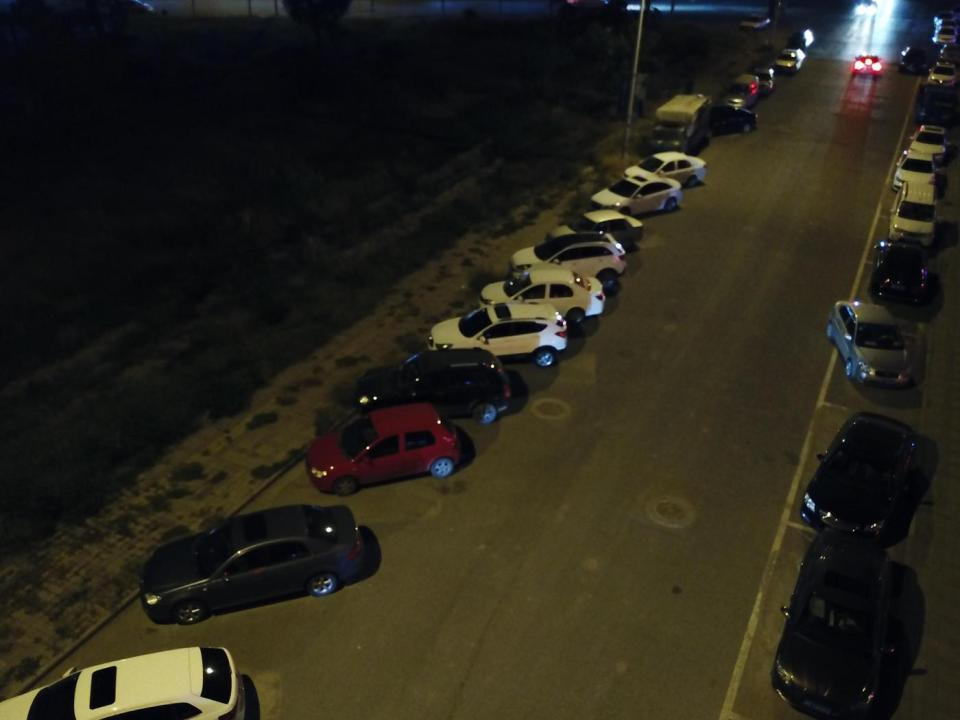car: (138, 501, 370, 624), (768, 533, 893, 720), (5, 644, 247, 720), (803, 404, 918, 544), (304, 400, 466, 496), (352, 346, 512, 426), (424, 301, 569, 370), (827, 294, 916, 390), (478, 261, 608, 325), (507, 235, 628, 292), (864, 239, 931, 305), (588, 175, 686, 218), (546, 208, 646, 250), (888, 181, 941, 246), (624, 150, 706, 191), (692, 102, 758, 136), (892, 149, 938, 193), (909, 122, 947, 164), (773, 45, 808, 74), (926, 60, 960, 88), (896, 46, 931, 73), (851, 52, 883, 78), (751, 66, 779, 94), (737, 10, 772, 31), (791, 26, 818, 50), (932, 24, 959, 46), (853, 0, 878, 20), (932, 8, 959, 26), (938, 43, 960, 62), (934, 19, 959, 32)
truck: (650, 92, 712, 157), (915, 80, 959, 128)
van: (724, 72, 760, 108)
